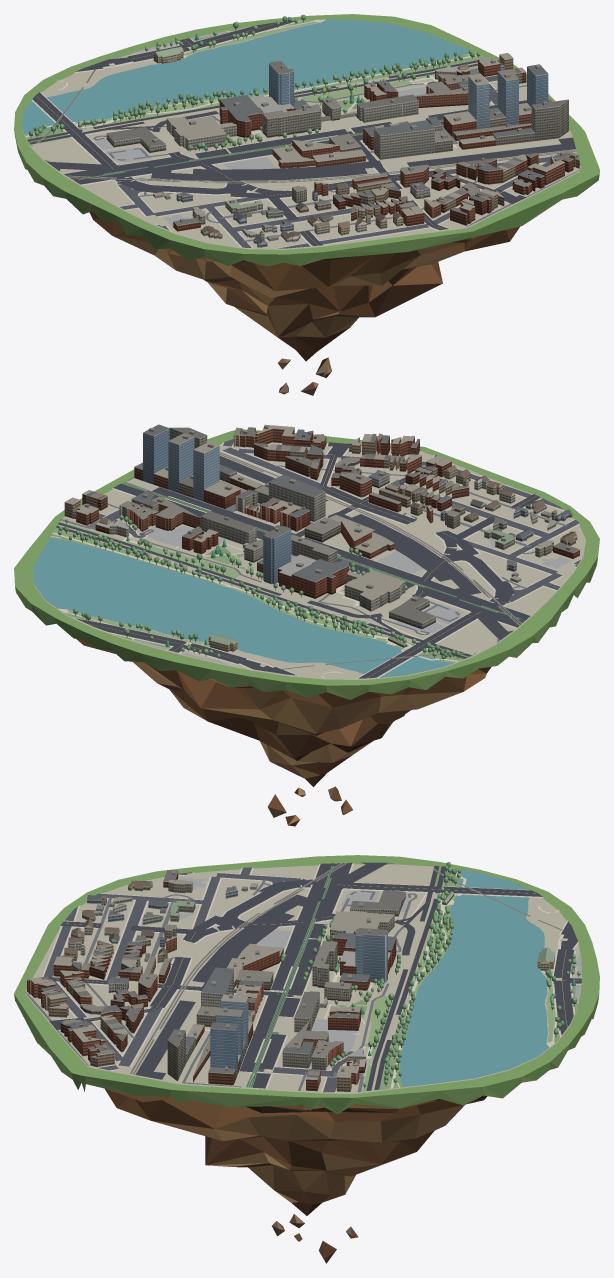
File: segment-place-bucen.glb
3 renders of one model, top to bottom at view 1: azimuth 30°, elevation 25°; view 2: azimuth 150°, elevation 25°; view 3: azimuth 270°, elevation 25°, orthographic. The views are drawn at different scales.
Parts seen in each view (by area): view 1: Masonry, foliage and streets, Island earth and rock, Island turf, Stone institutional elevations, Brick walk-up elevations, Glass curtain wall, Clapboard house elevations, Street-level storefronts; view 2: Masonry, foliage and streets, Island earth and rock, Island turf, Stone institutional elevations, Brick walk-up elevations, Glass curtain wall, Clapboard house elevations, Street-level storefronts; view 3: Masonry, foliage and streets, Island earth and rock, Island turf, Stone institutional elevations, Brick walk-up elevations, Glass curtain wall, Clapboard house elevations.
Part boxes in pixels (<box>): Masonry, foliage and streets: <box>21,14,580,249</box>; Island earth and rock: <box>89,211,519,395</box>; Island turf: <box>14,14,599,266</box>; Stone institutional elevations: <box>106,70,568,231</box>; Brick walk-up elevations: <box>329,55,579,226</box>; Glass curtain wall: <box>269,64,548,128</box>; Clapboard house elevations: <box>78,51,504,247</box>; Street-level storefronts: <box>106,73,470,198</box>; Masonry, foliage and streets: <box>33,424,585,679</box>; Island earth and rock: <box>76,639,491,826</box>; Island turf: <box>14,429,599,699</box>; Stone institutional elevations: <box>95,428,579,626</box>; Brick walk-up elevations: <box>64,428,469,539</box>; Glass curtain wall: <box>143,429,291,584</box>; Clapboard house elevations: <box>72,468,577,651</box>; Street-level storefronts: <box>72,480,435,629</box>; Masonry, foliage and streets: <box>24,862,581,1094</box>; Island earth and rock: <box>105,1088,487,1263</box>; Island turf: <box>14,855,599,1114</box>; Stone institutional elevations: <box>108,872,405,1082</box>; Brick walk-up elevations: <box>27,944,359,1091</box>; Glass curtain wall: <box>210,932,387,1079</box>; Clapboard house elevations: <box>64,884,554,1065</box>.
Size of the model in its own units: 0.8434 by 0.525 by 0.8603.
Materials: 8 (5 with a texture image).
